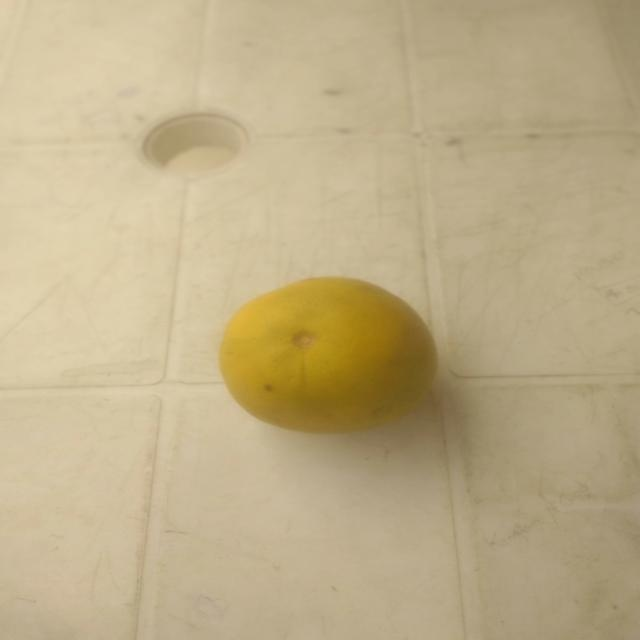agrume: (212, 267, 442, 443)
